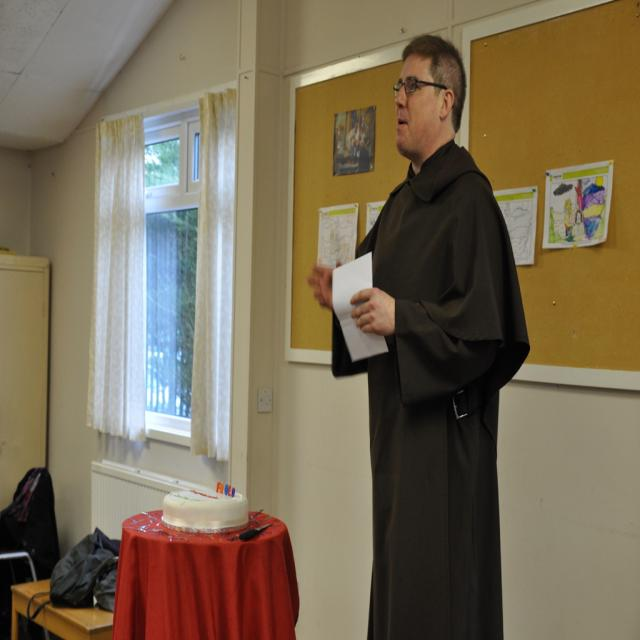desk: (115, 509, 293, 640)
person: (306, 35, 532, 637)
